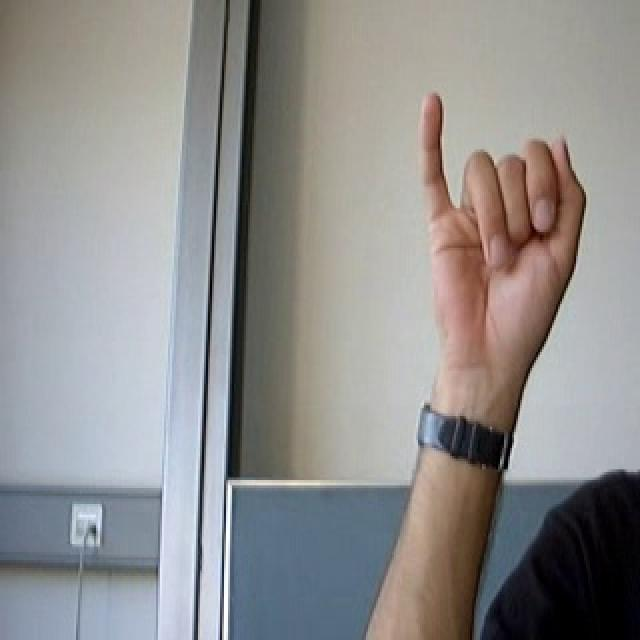I: (402, 77, 599, 378)
